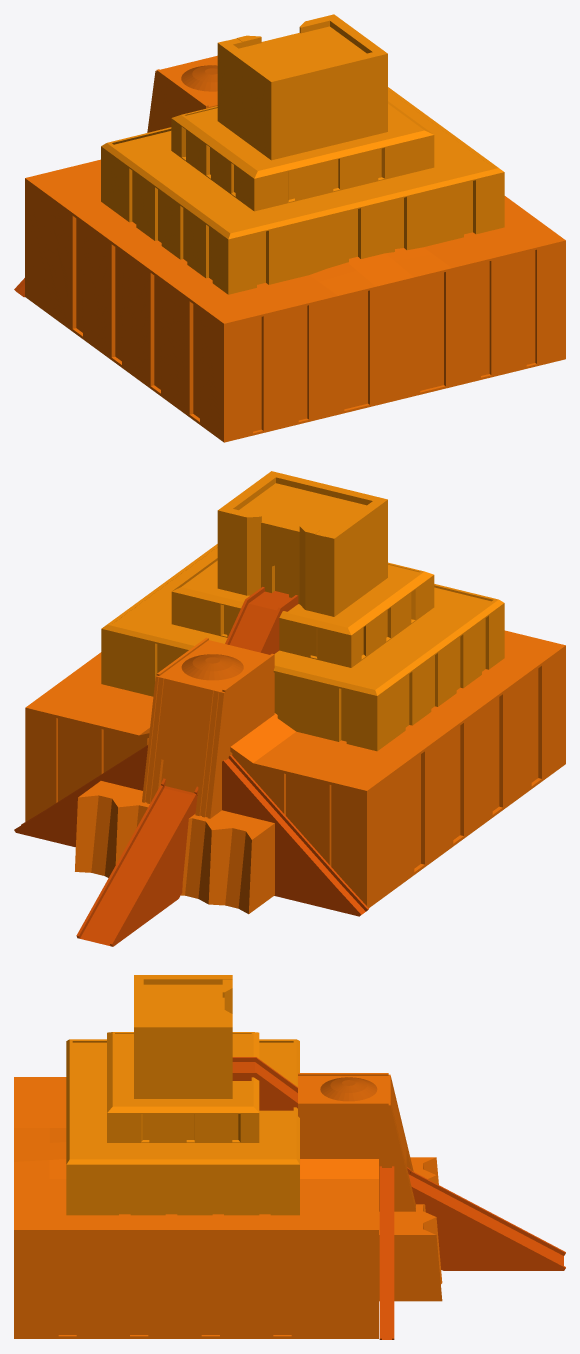
Rendered from Zigurat.fbx.
The picture shows the model from 3 angles, top to bottom: view 1: azimuth 30°, elevation 25°; view 2: azimuth 150°, elevation 25°; view 3: azimuth 270°, elevation 25°; orthographic projection. The views are drawn at different scales.
Visible parts, largest first — view 1: Cube, Cube.001, Cube.003, Circle; view 2: Cube.001, Cube, Cube.003, Cube.002, Cube.004, Cube.005, Cube.006, Circle; view 3: Cube, Cube.001, Cube.004, Cube.003, Cube.002, Cube.006, Circle.
Part boxes in pixels (x1,y1,x2,y2): Cube: [25, 159, 565, 442]; Cube.001: [101, 14, 504, 294]; Cube.003: [147, 55, 217, 132]; Circle: [181, 65, 217, 91]; Cube.001: [101, 471, 504, 751]; Cube: [25, 630, 565, 907]; Cube.003: [142, 637, 274, 818]; Cube.002: [75, 781, 274, 914]; Cube.004: [76, 587, 298, 946]; Cube.005: [222, 755, 368, 916]; Cube.006: [14, 745, 147, 847]; Circle: [181, 654, 243, 680]; Cube: [14, 1077, 378, 1338]; Cube.001: [66, 975, 299, 1215]; Cube.004: [232, 1057, 565, 1270]; Cube.003: [298, 1073, 415, 1211]; Cube.002: [379, 1157, 442, 1301]; Cube.006: [379, 1166, 394, 1339]; Circle: [320, 1077, 377, 1101].
Size of the model in its own units: 612 by 481 by 918.
